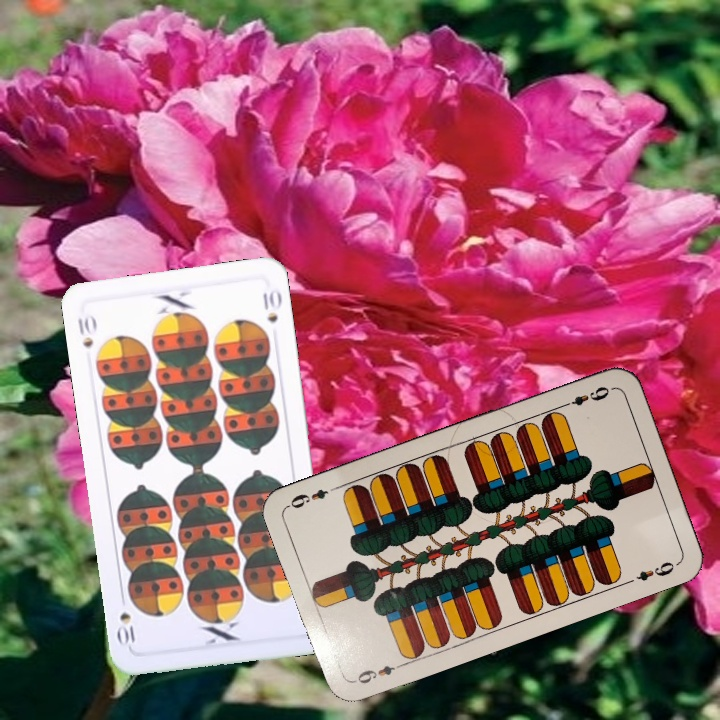E9: (558, 382, 615, 410), (349, 661, 397, 687)
S10: (73, 311, 99, 351)
